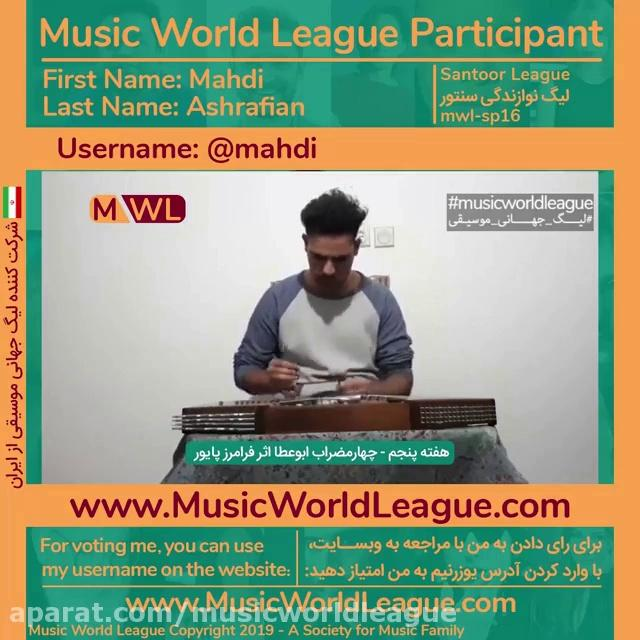Santur: (170, 394, 509, 434)
